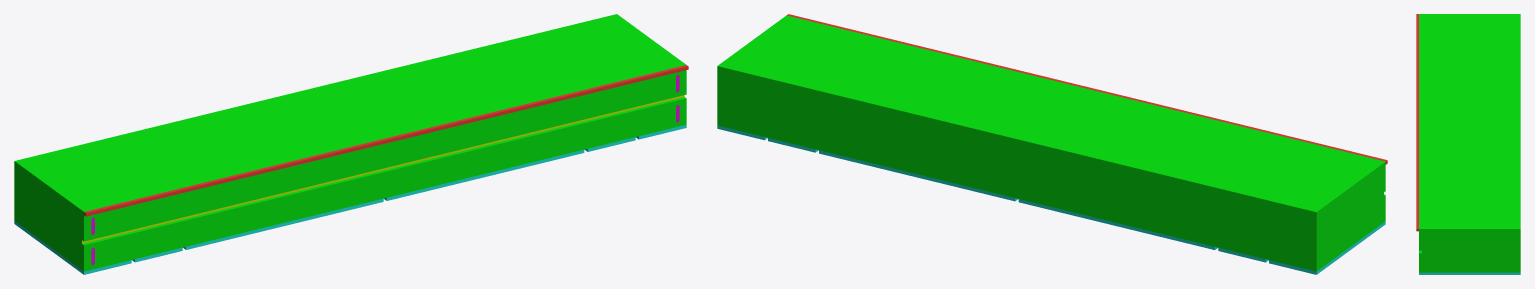
File: Interior_Deco_09.fbx
The picture shows the model from 3 angles, left to right: view 1: azimuth 30°, elevation 25°; view 2: azimuth 150°, elevation 25°; view 3: azimuth 270°, elevation 25°; orthographic projection. The views are drawn at different scales.
Visible parts, largest first — view 1: Interior_Deco_09; view 2: Interior_Deco_09; view 3: Interior_Deco_09.
Boxes of the visible parts, left/top/right/bottom form: Interior_Deco_09: left=14, top=14, right=688, bottom=274; Interior_Deco_09: left=717, top=14, right=1387, bottom=274; Interior_Deco_09: left=1416, top=14, right=1520, bottom=274.
Bounding box in the file's own units: 457 × 45.72 × 93.98.
